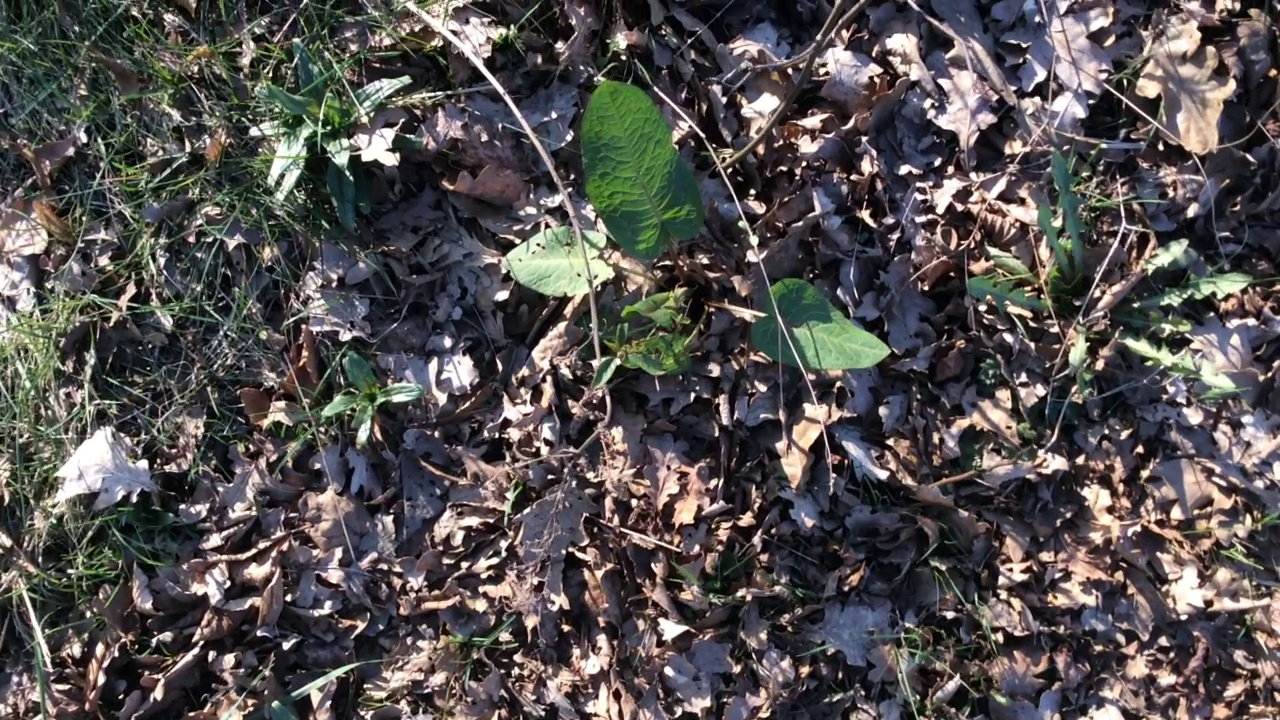rumex: (499, 80, 891, 375)
